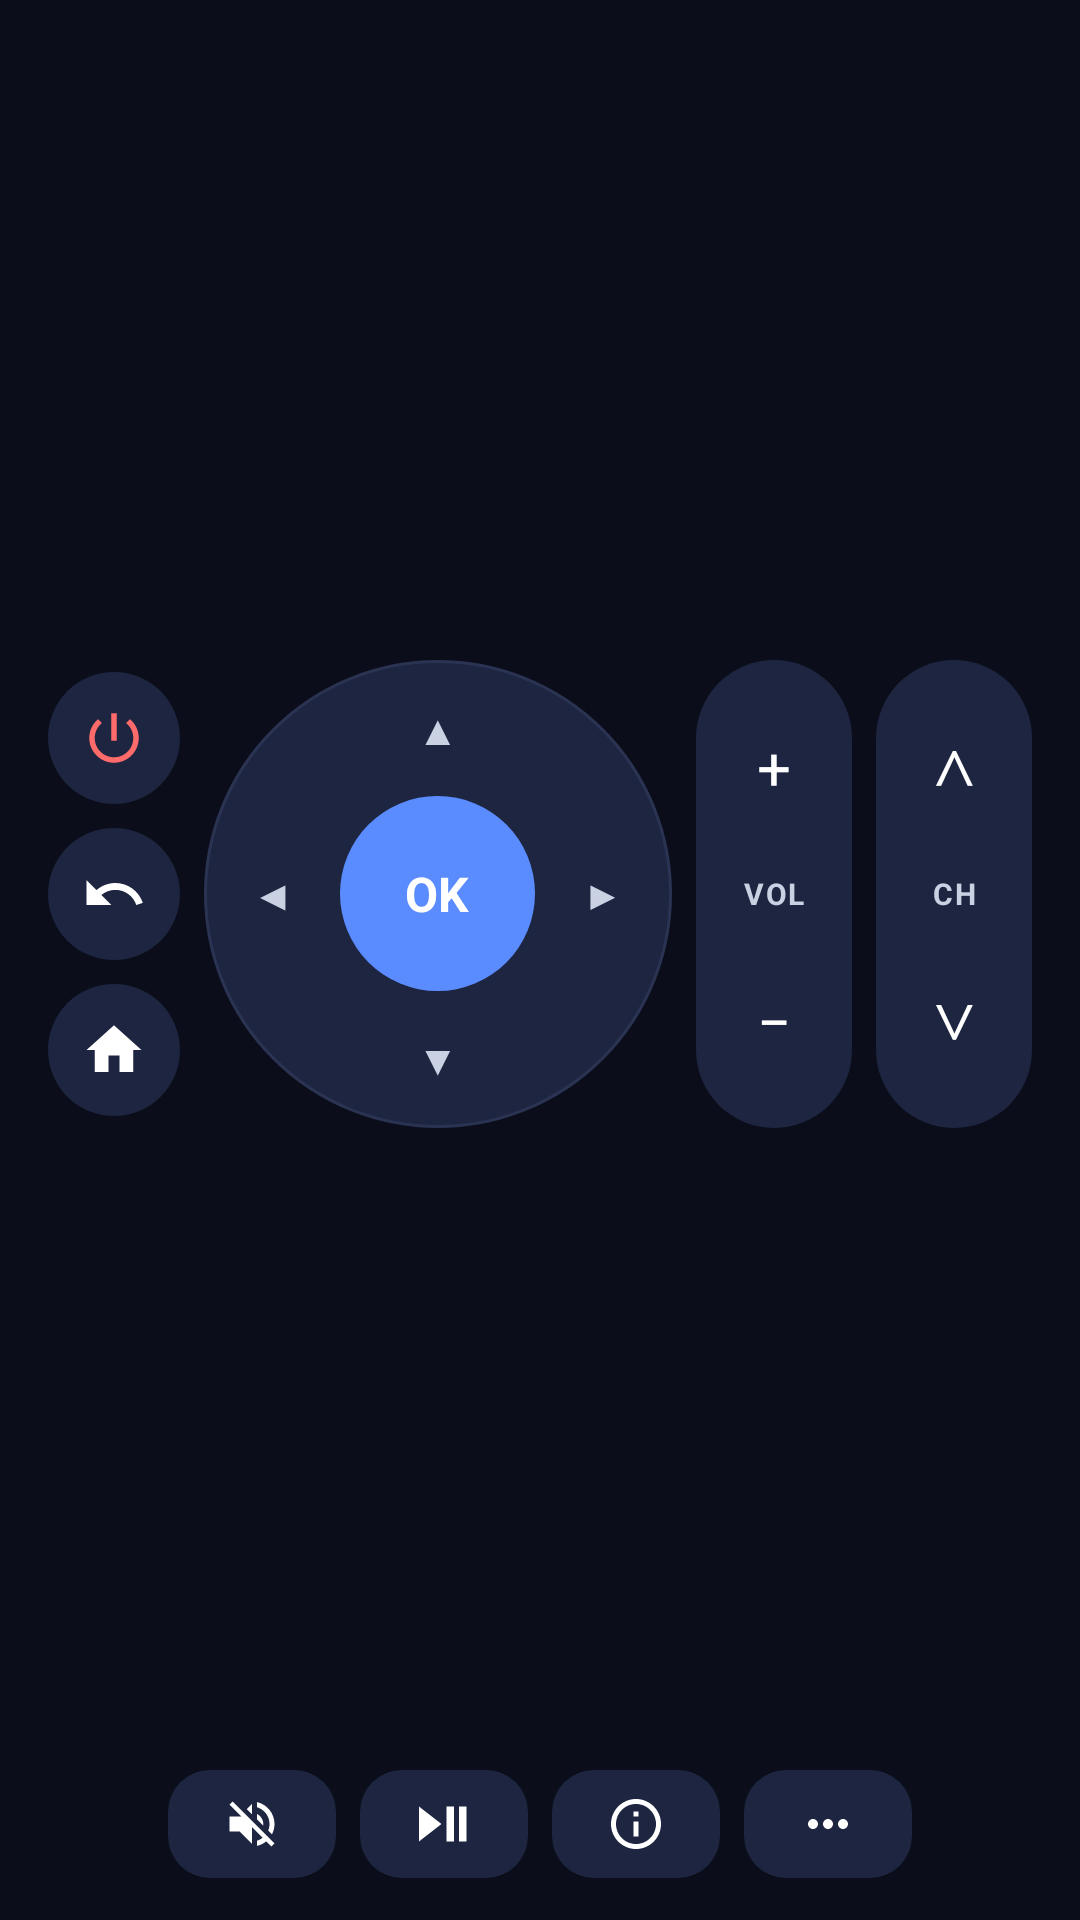

Icon bounding boxes for this 1080px x 1920px phone screenshot, format box(x1, y1, x2, y2):
back: box(48, 828, 180, 960)
home: box(48, 984, 180, 1116)
info: box(552, 1770, 720, 1878)
more: box(744, 1770, 912, 1878)
mute: box(168, 1770, 336, 1878)
play pause: box(360, 1770, 528, 1878)
power: box(48, 672, 180, 804)
